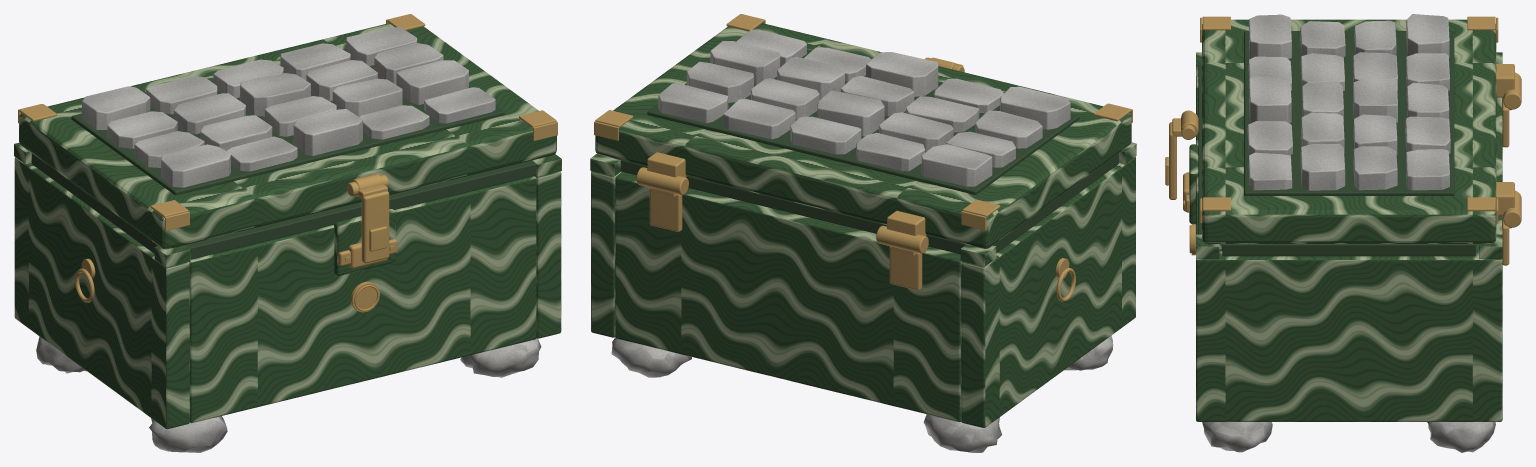
Rendered from ireland.glb.
The picture shows the model from 3 angles, left to right: view 1: azimuth 30°, elevation 25°; view 2: azimuth 150°, elevation 25°; view 3: azimuth 270°, elevation 25°; orthographic projection.
Visible parts, largest first — view 1: Marble / front rear, Lid / polished slab, Marble / side, Mineral seam / long, Marble / side.001, Pavement / grike bed, Pavement / clint 02, Pavement / clint 00, Pavement / clint 09, Pavement / clint 15, Limestone foot, Pavement / clint 12 (+22 smaller); view 2: Marble / front rear.001, Lid / polished slab, Marble / side, Pavement / grike bed, Marble / side.001, Mineral seam / long.001, Pavement / clint 15, Pavement / clint 02, Pavement / clint 18, Pavement / clint 19, Pavement / clint 00, Pavement / clint 12 (+25 smaller); view 3: Marble / side.001, Lid / polished slab, Pavement / grike bed, Mineral seam / side.001, Pavement / clint 09, Pavement / clint 14, Pavement / clint 02, Pavement / clint 00, Pavement / clint 19, Limestone foot.002, Pavement / clint 15, Limestone foot.003 (+28 smaller).
Part boxes in pixels (x1,y1,x2,y2): Marble / front rear: (189,176,536,423); Lid / polished slab: (19,23,556,249); Marble / side: (14,157,189,428); Mineral seam / long: (185,160,536,259); Marble / side.001: (535,171,561,338); Pavement / grike bed: (71,49,504,195); Pavement / clint 02: (293,109,362,155); Pavement / clint 00: (161,144,231,187); Pavement / clint 09: (396,60,468,104); Pavement / clint 15: (82,86,150,129); Limestone foot: (149,416,227,452); Pavement / clint 12: (240,73,310,116); Marble / front rear.001: (615,172,961,421); Lid / polished slab: (595,23,1131,248); Marble / side: (961,157,1135,427); Pavement / grike bed: (647,49,1079,194); Marble / side.001: (591,171,621,337); Mineral seam / long.001: (620,160,966,254); Pavement / clint 15: (921,144,992,186); Pavement / clint 02: (866,52,938,96); Pavement / clint 18: (723,98,795,139); Pavement / clint 19: (658,83,728,123); Pavement / clint 00: (1000,86,1070,129); Pavement / clint 12: (817,90,884,136); Marble / side.001: (1196,251,1502,421); Lid / polished slab: (1202,19,1496,243); Pavement / grike bed: (1244,31,1454,195); Mineral seam / side.001: (1222,244,1475,256); Pavement / clint 09: (1300,144,1345,190); Pavement / clint 14: (1353,146,1397,190); Pavement / clint 02: (1249,76,1291,123); Pavement / clint 00: (1249,14,1291,58); Pavement / clint 19: (1406,149,1449,190); Limestone foot.002: (1202,422,1272,452); Pavement / clint 15: (1406,14,1449,57); Limestone foot.003: (1427,422,1495,452).
Size of the model in its own units: 3.79 by 2.51 by 2.88.
4 materials, 2 textured.
